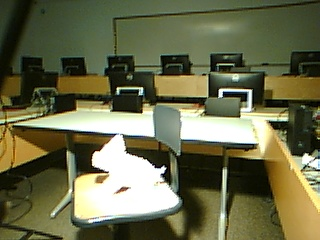piggy: (89, 133, 167, 196)
